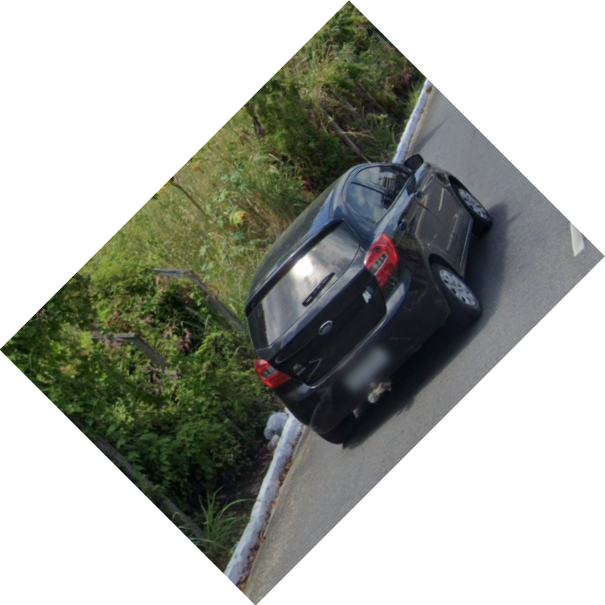car: (243, 152, 494, 448)
